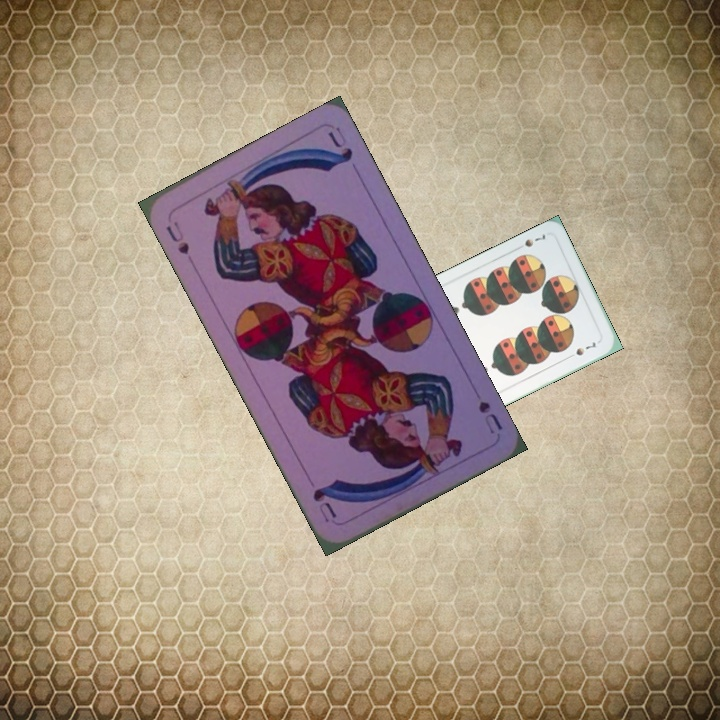S7: (520, 229, 548, 250)
SU: (474, 397, 506, 437), (162, 217, 192, 258)
